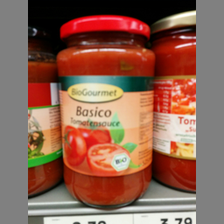tomato_sauce: (55, 14, 155, 211), (151, 10, 195, 194)
